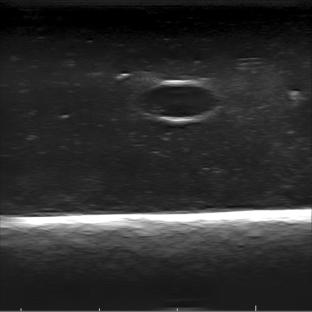vessel: (133, 78, 222, 123)
